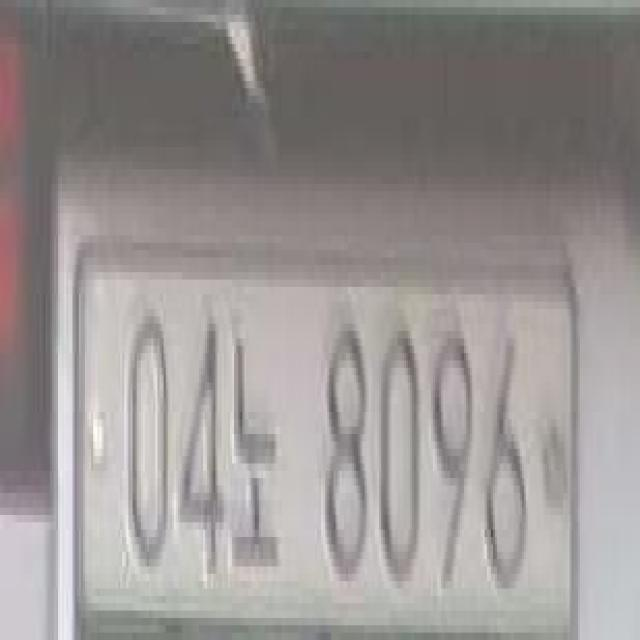illegal_plate: (70, 250, 591, 631)
